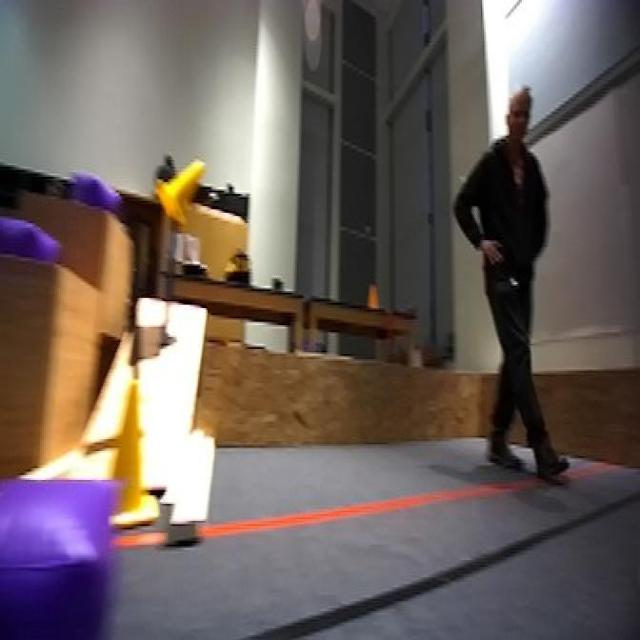frc_cone: (94, 371, 184, 550), (161, 151, 215, 230)
frc_cube: (0, 425, 133, 640), (0, 201, 77, 272), (68, 165, 110, 208)
